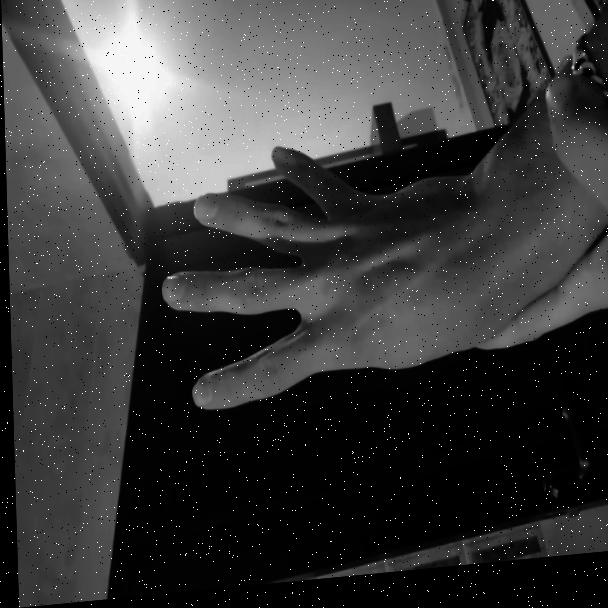four: (147, 130, 484, 432)
